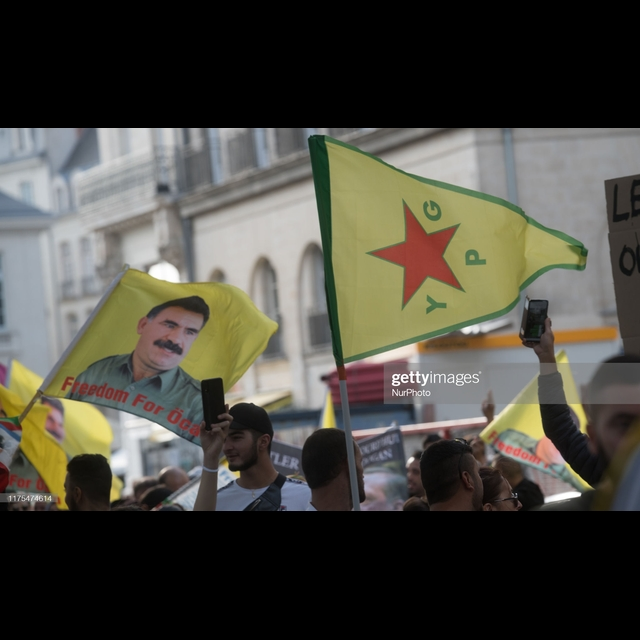APO: (132, 297, 211, 367)
YPG: (370, 196, 491, 319)
